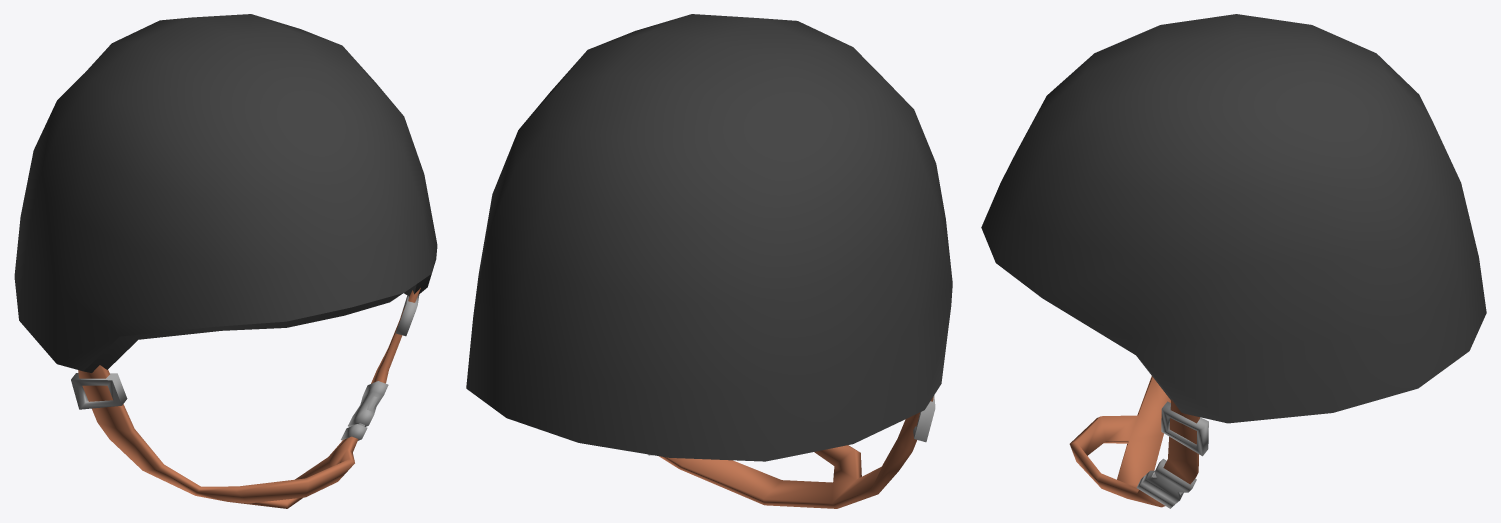
File: helmet_Black.fbx
The picture shows the model from 3 angles, left to right: view 1: azimuth 30°, elevation 25°; view 2: azimuth 150°, elevation 25°; view 3: azimuth 270°, elevation 25°; orthographic projection. The views are drawn at different scales.
Parts seen in each view (by area): view 1: helmet_Black; view 2: helmet_Black; view 3: helmet_Black.
Part boxes in pixels (bbox=[...]): helmet_Black: bbox=[14, 14, 437, 508]; helmet_Black: bbox=[466, 14, 952, 508]; helmet_Black: bbox=[981, 14, 1486, 508].
Size of the model in its own units: 96.27 by 112 by 112.
